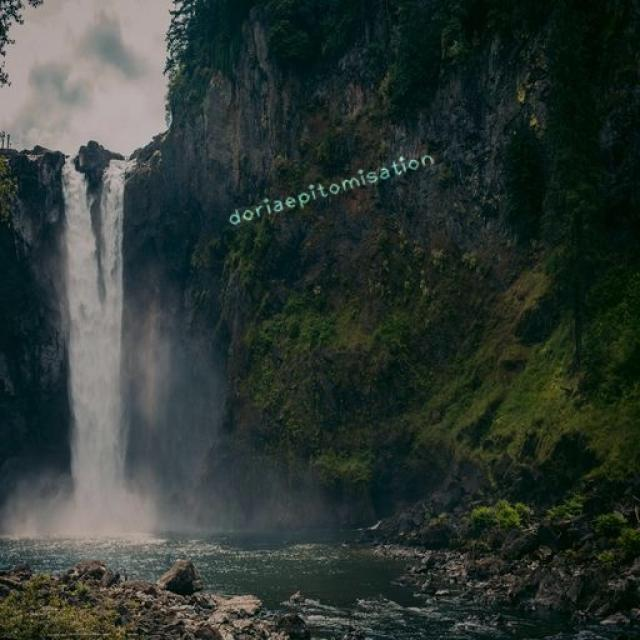watermark: (224, 148, 436, 229)
